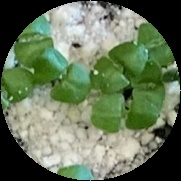Basil: (6, 31, 48, 99), (97, 41, 145, 95), (93, 95, 161, 129), (42, 53, 88, 99), (140, 22, 173, 66), (137, 60, 167, 102)
